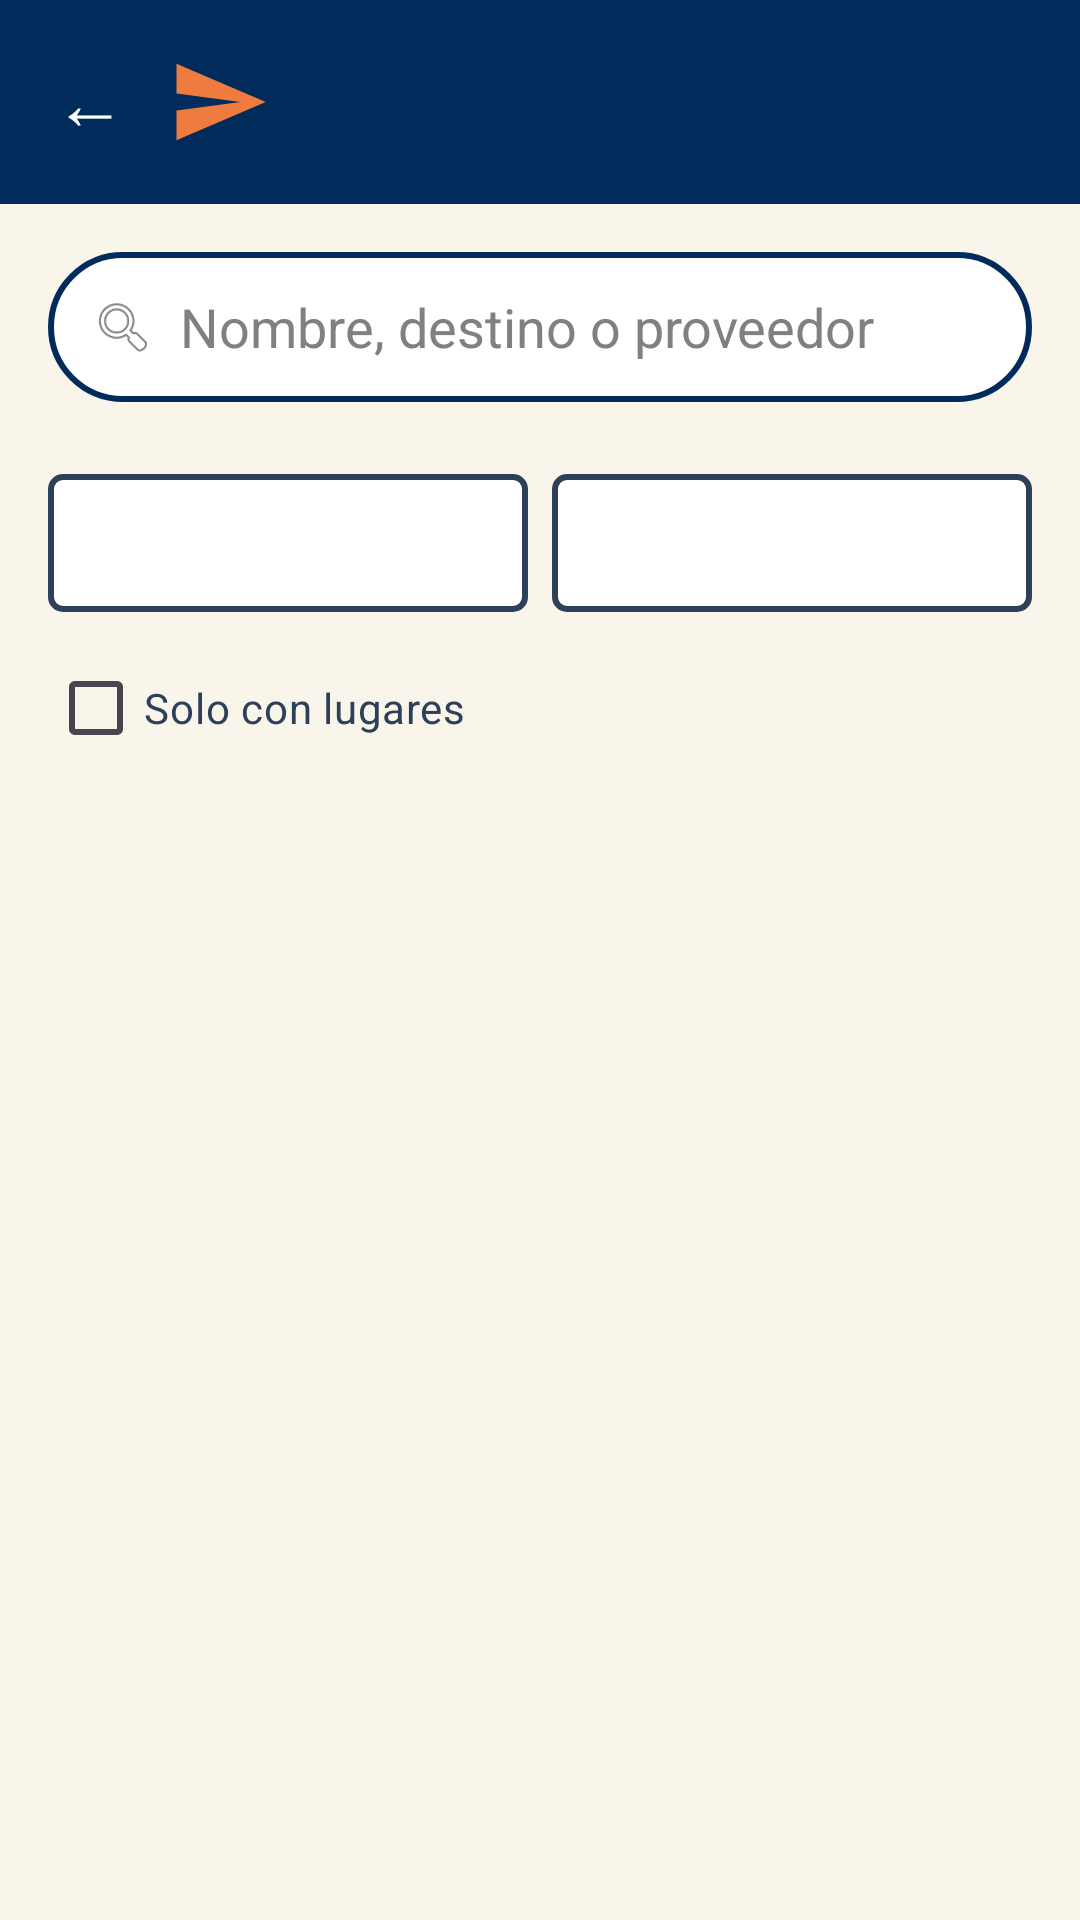

Screen size 1080x1920. Icon name, then its box in pixels as (x1, y1, x2, y2):
Buscar: (99, 303, 147, 352)
